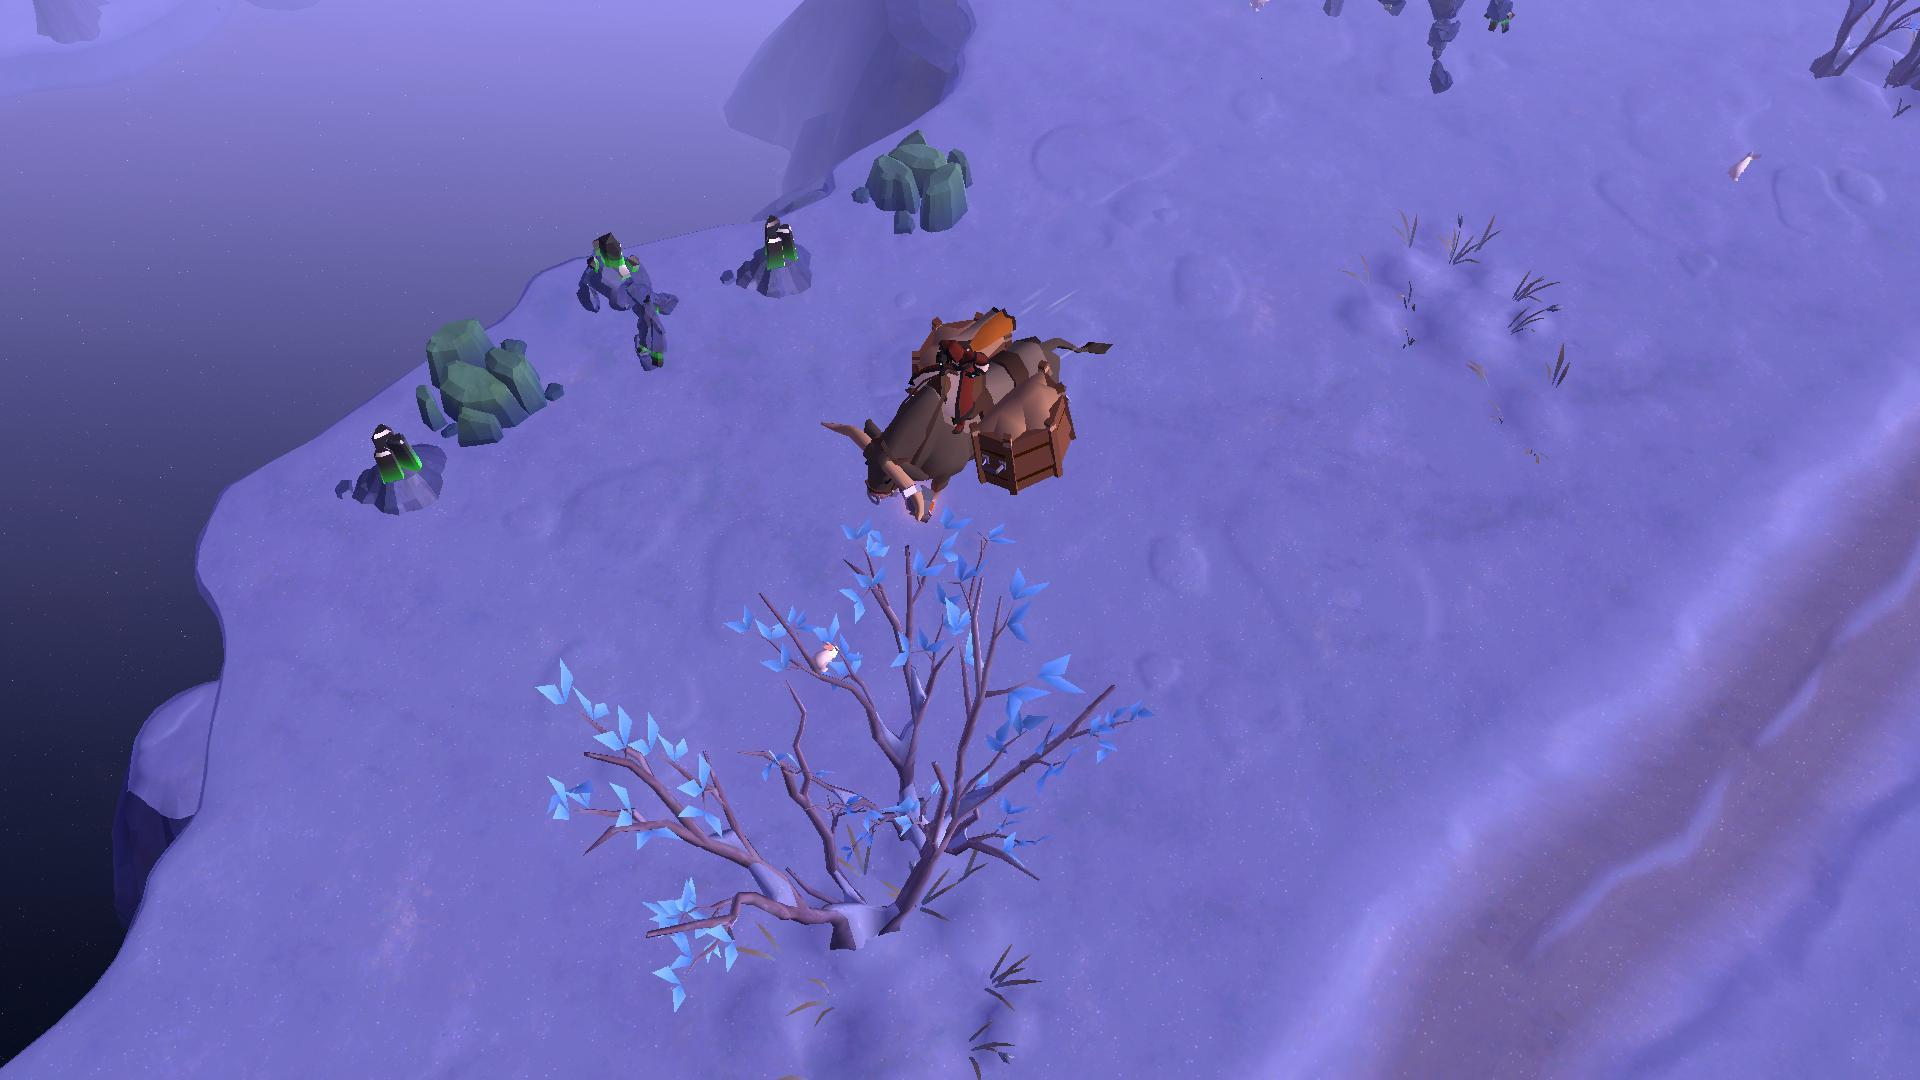mobOre_t3: (559, 229, 683, 382)
ore_t3: (349, 410, 438, 510), (745, 215, 815, 293)
rock_t3: (394, 309, 568, 442), (853, 121, 984, 235)
